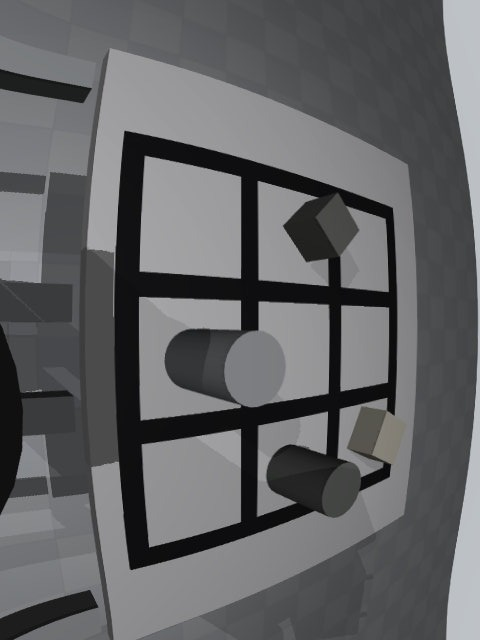can: (164, 329, 286, 407)
cube: (283, 192, 359, 262)
cylinder: (266, 445, 361, 518)
foam: (347, 406, 407, 465)
